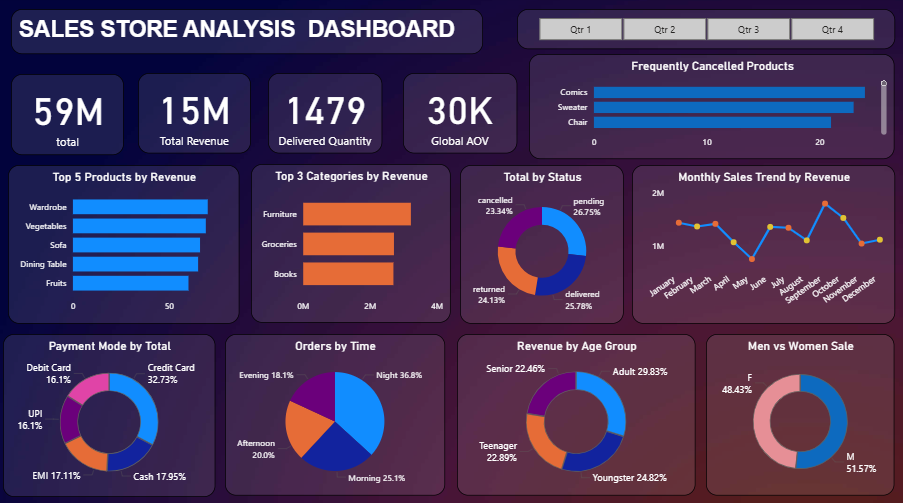

What the dashboard file says about the page in this screenshot:
{"tool":"powerbi","page":{"name":"Page 1","canvas":[1280,720],"ordinal":0},"visuals":[{"type":"barChart","title":" Top 5 Products by Revenue","fields":{"Category":["public sales_store_copy.product_name"],"Y":["public sales_store_copy.Delivered_Quantity"]},"box":[12.2,238.3,328.4,224.5],"z":0},{"type":"donutChart","title":"Payment Mode by Total","fields":{"Category":["public sales_store_copy.payment_mode"],"Y":["public sales_store_copy.total"]},"box":[6.1,478.1,300.9,230.6],"z":1000},{"type":"donutChart","title":"Revenue by Age Group","fields":{"Category":["public sales_store_copy.newagegroup"],"Y":["public sales_store_copy.Delivered_Total"]},"box":[649.2,478.1,337.6,229.1],"z":2000},{"type":"pieChart","title":"Orders by Time","fields":{"Category":["public sales_store_copy.Time_group"],"Y":["public sales_store_copy.Delivered_Total"]},"box":[320.8,478.1,311.6,229.1],"z":3000},{"type":"donutChart","title":"Men vs Women Sale","fields":{"Category":["public sales_store_copy.gender"],"Y":["public sales_store_copy.Delivered_Total"]},"box":[1002,478.1,267.3,229.1],"z":4000},{"type":"lineChart","title":"Monthly Sales Trend by Revenue","fields":{"Category":["public sales_store_copy.purchase_date.Variation.Date Hierarchy.Month"],"Y":["public sales_store_copy.Delivered_Total"]},"box":[896.6,238.3,372.7,224.5],"z":5000},{"type":"card","fields":{"Values":["public sales_store_copy.total"]},"box":[16.8,108.4,160.4,114.6],"z":6000},{"type":"barChart","title":"Top 3 Categories by Revenue ","fields":{"Category":["public sales_store_copy.product_category"],"Y":["public sales_store_copy.Delivered_Total"]},"box":[357.2,236.7,283.5,225.4],"z":7000},{"type":"slicer","fields":{"Values":["public sales_store_copy.purchase_date.Variation.Date Hierarchy.Quarter"]},"box":[734.2,17,535.7,56.7],"z":8000},{"type":"donutChart","title":"Total by Status","fields":{"Category":["public sales_store_copy.status"],"Y":["public sales_store_copy.total"]},"box":[653.4,238.1,232.4,225.4],"z":9000},{"type":"barChart","title":"Frequently Cancelled Products","fields":{"Category":["public sales_store_copy.product_name"],"Y":["public sales_store_copy.Cancelled_Orders"]},"box":[751.2,80.8,518.1,149.3],"z":10000},{"type":"card","fields":{"Values":["public sales_store_copy.Delivered_Quantity"]},"box":[381,108.2,161.5,114.3],"z":11000},{"type":"textbox","box":[17,17,669,63.8],"z":12000},{"type":"card","fields":{"Values":["public sales_store_copy.Delivered_Total"]},"box":[196.6,108.2,160,114.3],"z":13000},{"type":"card","fields":{"Values":["public sales_store_copy.AOV"]},"box":[573,108.2,161.5,114.3],"z":14000}]}

Visuals, with their boxes in screenshot pixels (x1, y1, x2, y2), scaled from the page's 1280x720 canvas onto the 903x503 screenshot:
" Top 5 Products by Revenue" barChart: 9:166:240:323
"Payment Mode by Total" donutChart: 4:334:217:495
"Revenue by Age Group" donutChart: 458:334:696:494
"Orders by Time" pieChart: 226:334:446:494
"Men vs Women Sale" donutChart: 707:334:895:494
"Monthly Sales Trend by Revenue" lineChart: 633:166:895:323
card - public sales_store_copy.total: 12:76:125:156
"Top 3 Categories by Revenue " barChart: 252:165:452:323
slicer - public sales_store_copy.purchase_date.Variation.Date Hierarchy.Quarter: 518:12:896:51
"Total by Status" donutChart: 461:166:625:324
"Frequently Cancelled Products" barChart: 530:56:895:161
card - public sales_store_copy.Delivered_Quantity: 269:76:383:155
textbox: 12:12:484:56
card - public sales_store_copy.Delivered_Total: 139:76:252:155
card - public sales_store_copy.AOV: 404:76:518:155
